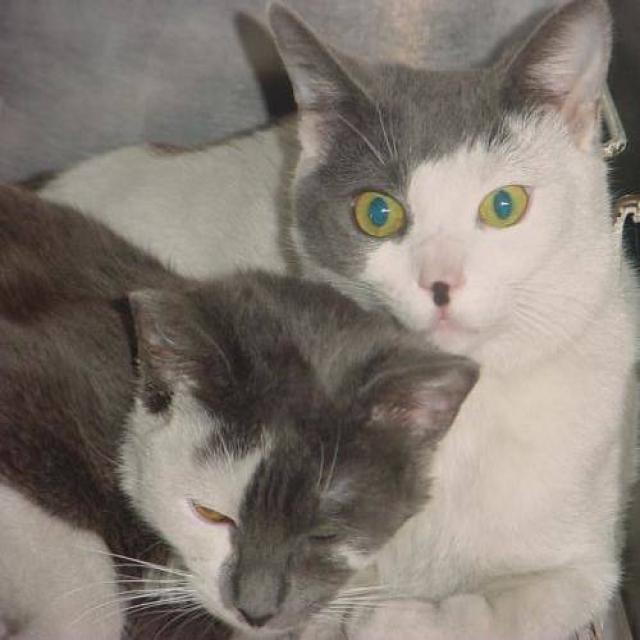cat: (4, 0, 639, 639)
